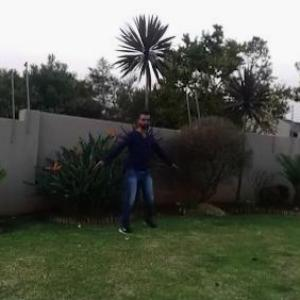land: (66, 96, 193, 251)
